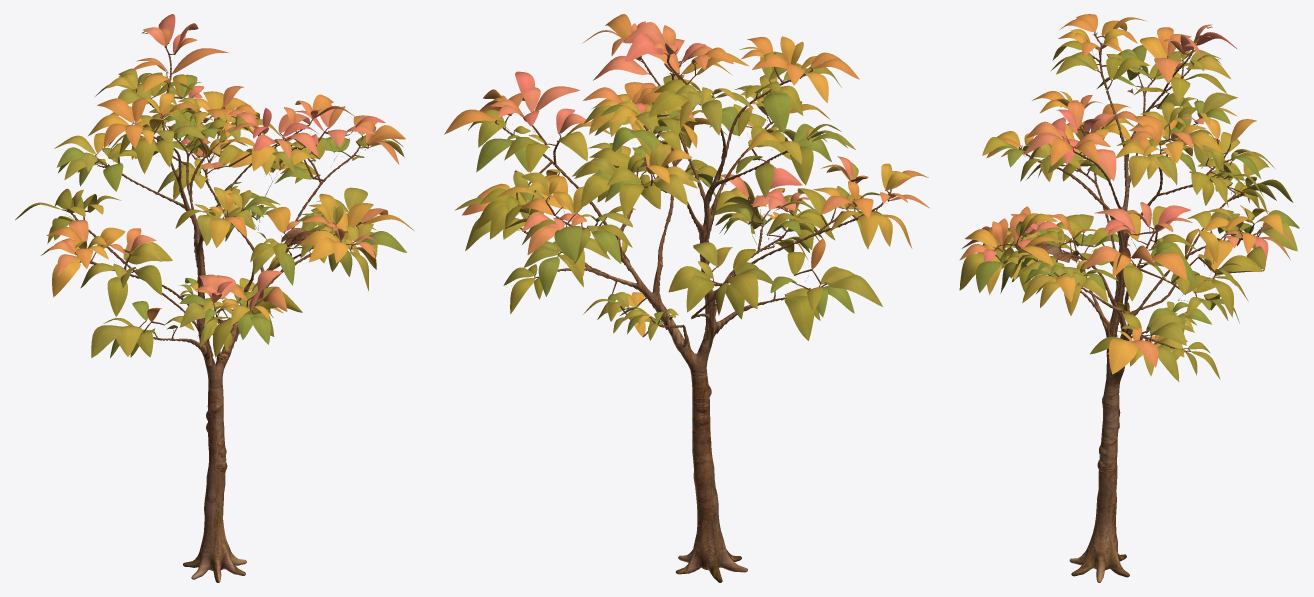
Rendered from humanities_ornamental.glb.
3 renders of one model, left to right at view 1: azimuth 30°, elevation 25°; view 2: azimuth 150°, elevation 25°; view 3: azimuth 270°, elevation 25°, orthographic. The views are drawn at different scales.
Parts seen in each view (by area): view 1: Arched leaf blades | late spring foliage, Flared trunk, branch hierarchy and petioles, Tapered cinnamon leaf stalks; view 2: Arched leaf blades | late spring foliage, Flared trunk, branch hierarchy and petioles, Tapered cinnamon leaf stalks; view 3: Arched leaf blades | late spring foliage, Flared trunk, branch hierarchy and petioles, Tapered cinnamon leaf stalks.
Boxes of the visible parts, left/top/right/bottom form: Arched leaf blades | late spring foliage: left=15, top=14, right=414, bottom=357; Flared trunk, branch hierarchy and petioles: left=107, top=31, right=327, bottom=582; Tapered cinnamon leaf stalks: left=61, top=43, right=369, bottom=356; Arched leaf blades | late spring foliage: left=444, top=14, right=929, bottom=340; Flared trunk, branch hierarchy and petioles: left=527, top=51, right=831, bottom=582; Tapered cinnamon leaf stalks: left=495, top=52, right=891, bottom=340; Arched leaf blades | late spring foliage: left=959, top=14, right=1299, bottom=381; Flared trunk, branch hierarchy and petioles: left=1019, top=26, right=1245, bottom=582; Tapered cinnamon leaf stalks: left=994, top=31, right=1264, bottom=351.
Size of the model in its own units: 2.02 by 2.6 by 1.48.
3 materials, 2 textured.
